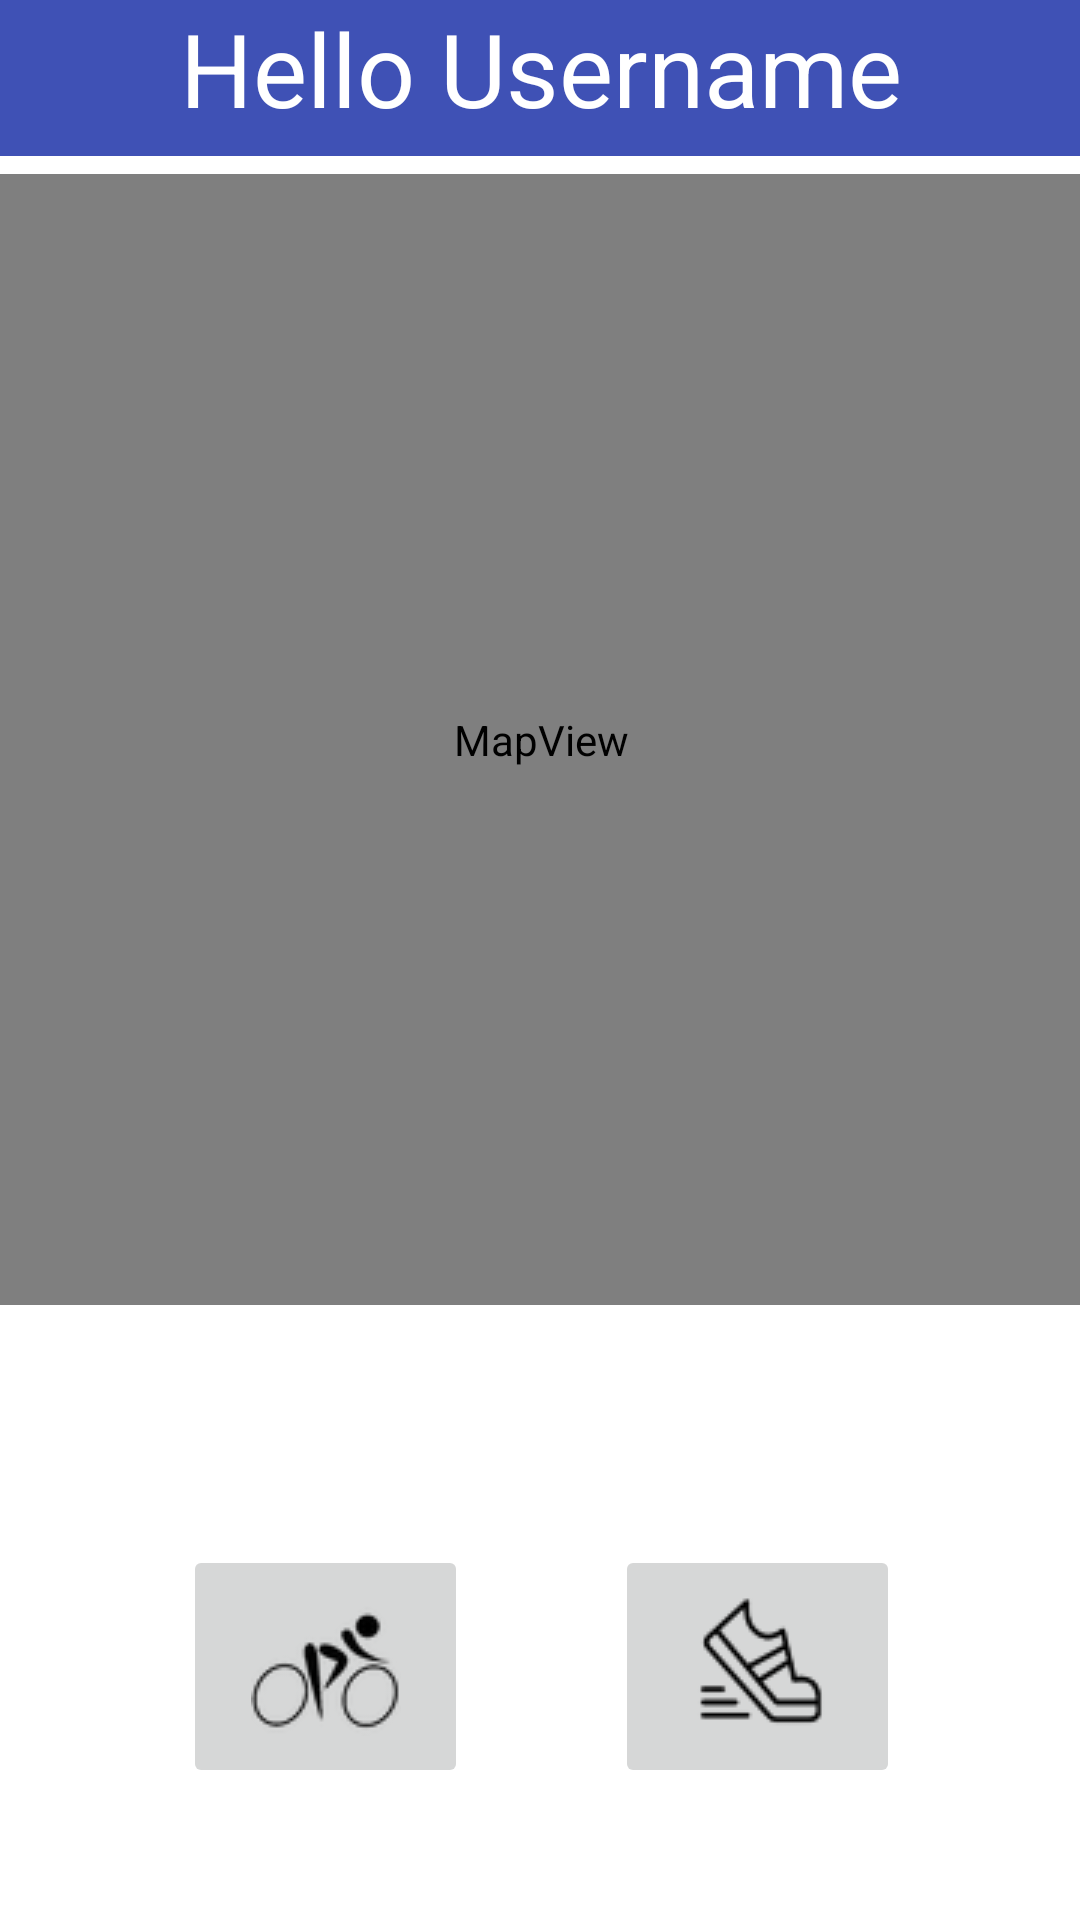

Icon bounding boxes for this 1080x1920 phone screenshot, format {"left": x1, "top": y1, "right": x2, "bottom": y2}:
Start Cycle: {"left": 195, "top": 1563, "right": 456, "bottom": 1770}
Start Run: {"left": 627, "top": 1563, "right": 888, "bottom": 1770}
